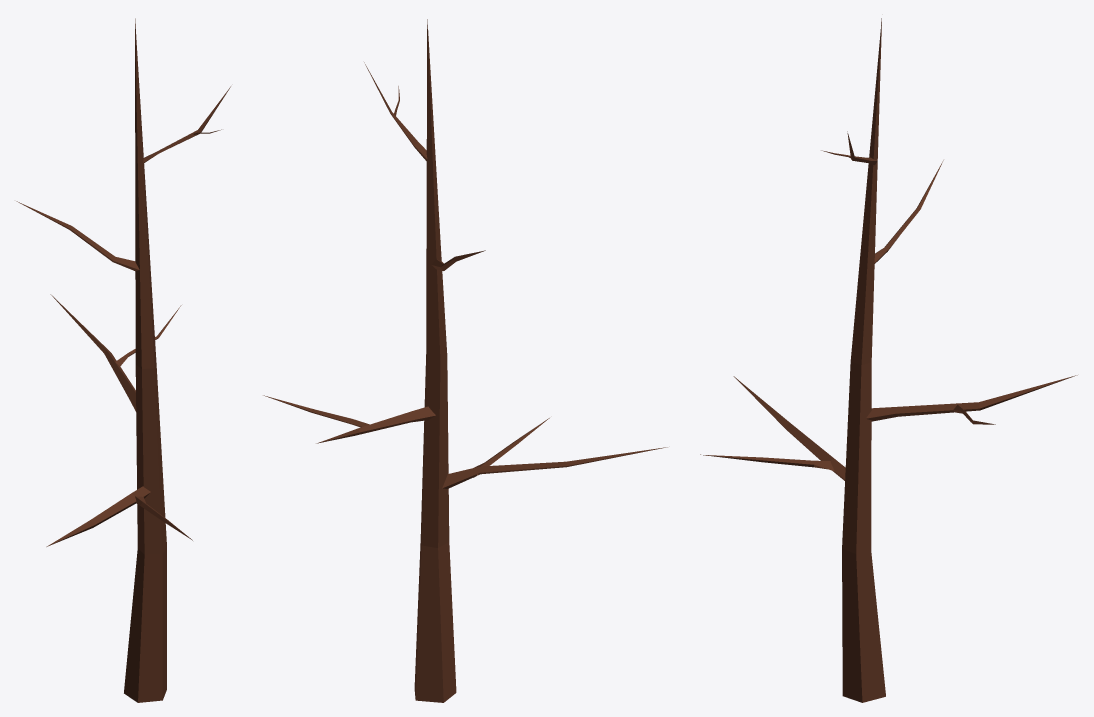
The model's file is Spruce01.FBX.
3 renders of one model, left to right at view 1: azimuth 30°, elevation 25°; view 2: azimuth 150°, elevation 25°; view 3: azimuth 270°, elevation 25°, orthographic.
Parts seen in each view (by area): view 1: Trunk, Branch003, Branch001, Branch006, Branch004; view 2: Trunk, Branch003, Branch001; view 3: Trunk, Branch001, Branch003, Branch005.
Part boxes in pixels (bbox=[...]): Trunk: bbox=[124, 18, 166, 702]; Branch003: bbox=[46, 486, 150, 546]; Branch001: bbox=[50, 294, 136, 411]; Branch006: bbox=[16, 201, 139, 270]; Branch004: bbox=[143, 86, 230, 162]; Trunk: bbox=[414, 19, 456, 702]; Branch003: bbox=[442, 447, 667, 488]; Branch001: bbox=[316, 406, 435, 443]; Trunk: bbox=[842, 18, 885, 702]; Branch001: bbox=[866, 375, 1077, 421]; Branch003: bbox=[733, 376, 845, 480]; Branch005: bbox=[700, 454, 834, 471].
Bounding box in the file's own units: 13.51 × 32.27 × 16.39.
